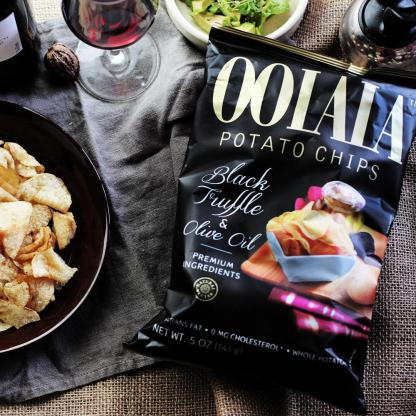potatochip: (118, 12, 416, 416)
